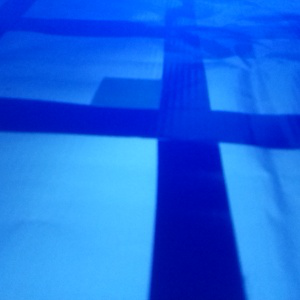bottom_right: (165, 27, 254, 59)
top_left: (90, 76, 208, 134)
